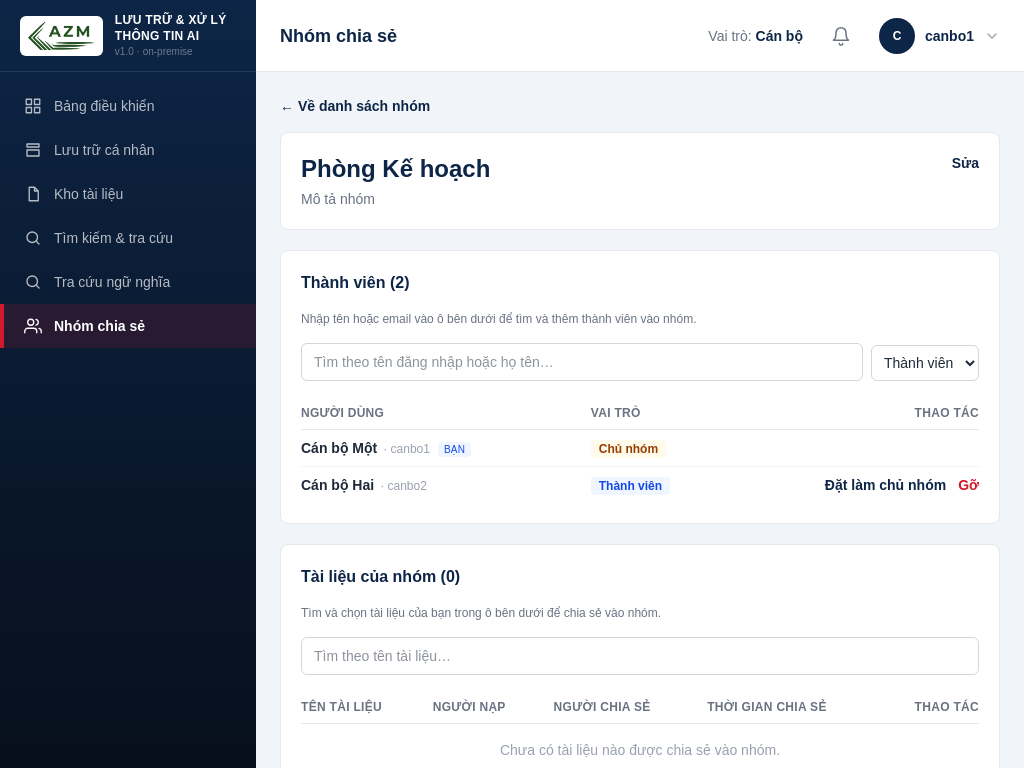
Test: GroupDetailPage › adds a document found through the document picker
Expected: the heading "Phòng Kế hoạch" is shown, [301,153,490,185]
Type "ke hoach" into the field with placeholder "Tìm theo tên tài liệu…" at x=640, y=656, box [301,637,979,675]
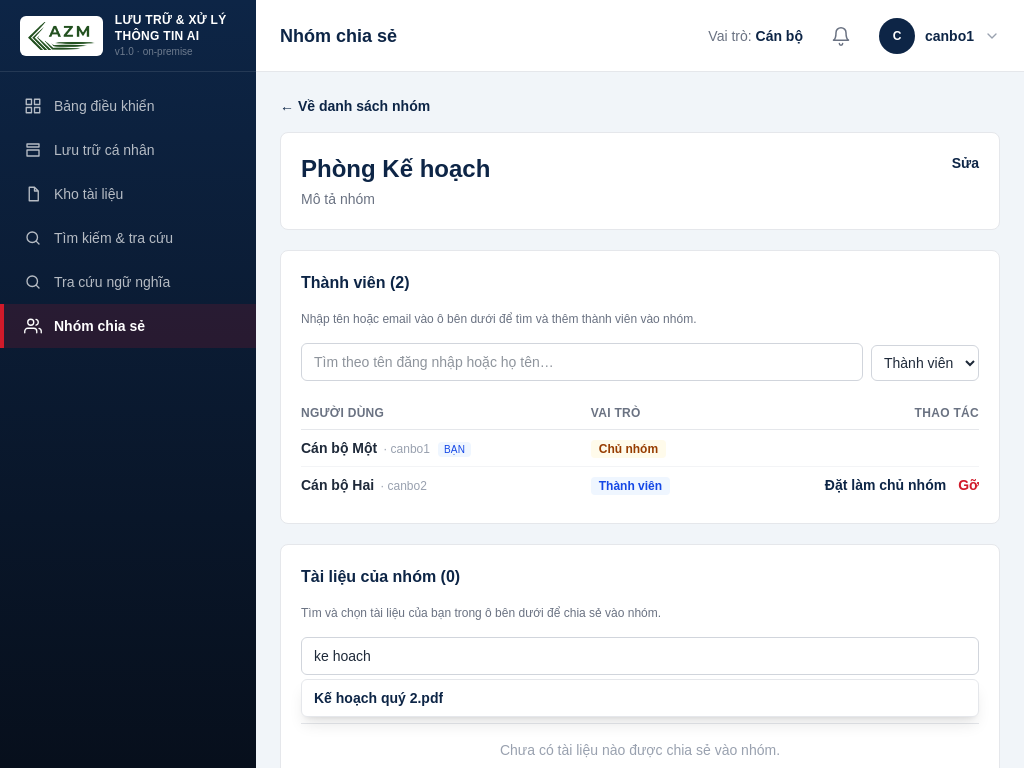
Expected: the text "Kế hoạch quý 2.pdf" is shown, [314,688,443,708]
Click the button "Kế hoạch quý 2.pdf" at x=379, y=698, box [302,680,978,716]
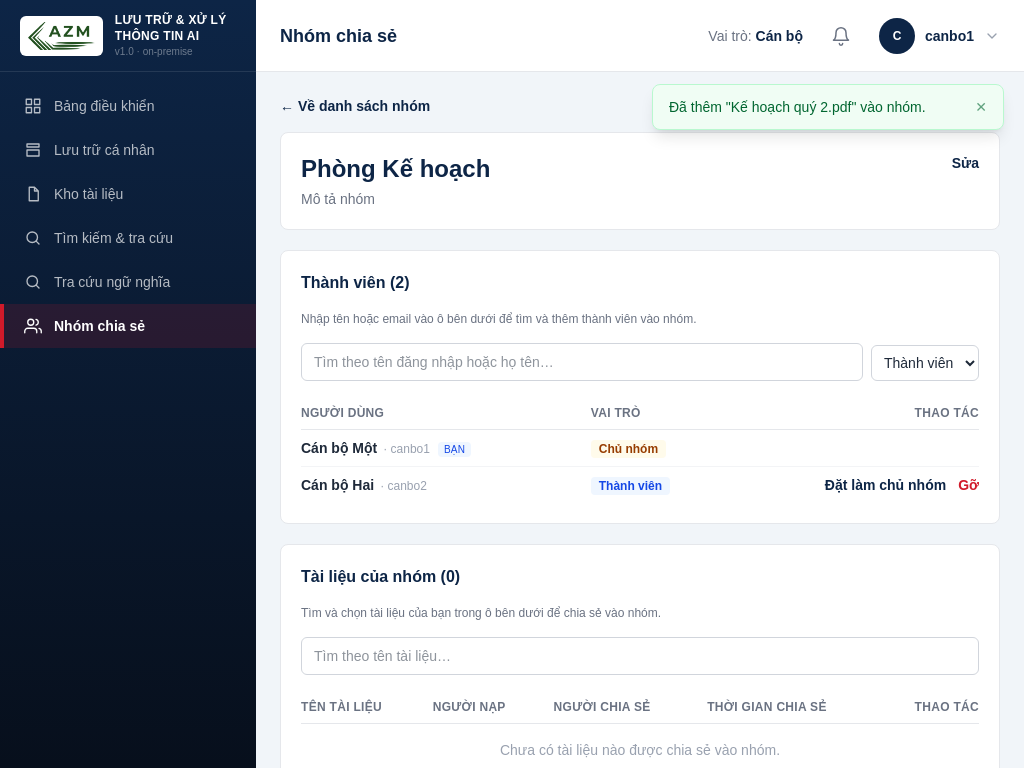
Expected: the text "Đã thêm \"Kế hoạch quý 2.pdf\" vào nhóm." is shown, [669,97,963,117]
